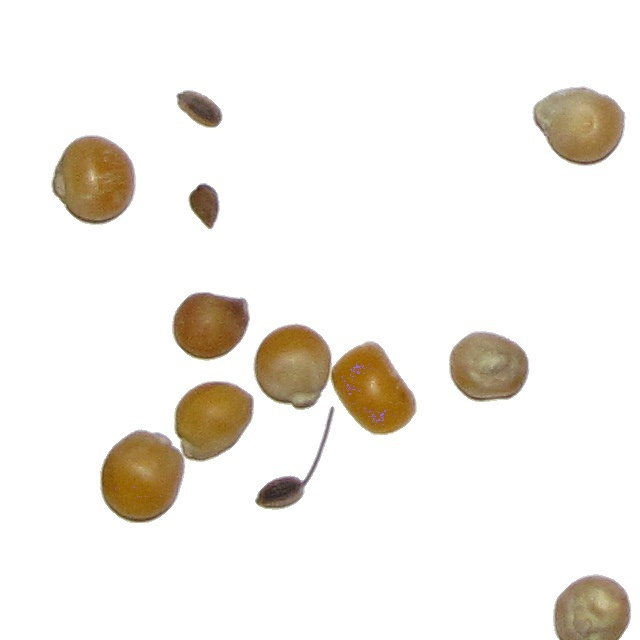buckwheat: (175, 89, 224, 129), (187, 182, 221, 230)
dill: (254, 405, 336, 511)
mais: (329, 340, 418, 436), (99, 428, 187, 524), (50, 134, 137, 226), (531, 85, 627, 167), (252, 322, 333, 411), (173, 380, 255, 463), (448, 330, 531, 403), (171, 291, 251, 362), (552, 573, 633, 640)
